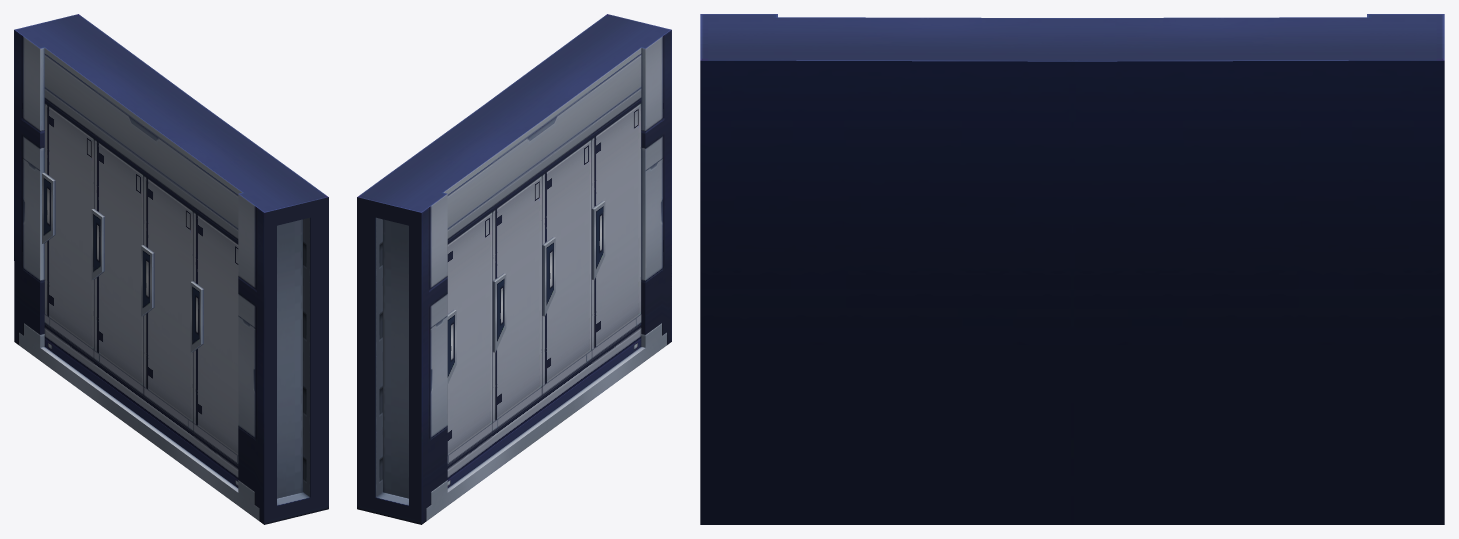
File: my_carrier_01_cabinet_02.glb
The picture shows the model from 3 angles, left to right: view 1: azimuth 30°, elevation 25°; view 2: azimuth 150°, elevation 25°; view 3: azimuth 270°, elevation 25°; orthographic projection. The views are drawn at different scales.
Parts seen in each view (by area): view 1: my_carrier_01_cabinet_02; view 2: my_carrier_01_cabinet_02; view 3: my_carrier_01_cabinet_02.
Part boxes in pixels (x1,y1,x2,y2): my_carrier_01_cabinet_02: [14, 14, 328, 524]; my_carrier_01_cabinet_02: [357, 14, 671, 524]; my_carrier_01_cabinet_02: [700, 14, 1444, 524].
Size of the model in its own units: 0.0034 by 0.0157 by 0.0229.
1 material, 1 textured.
